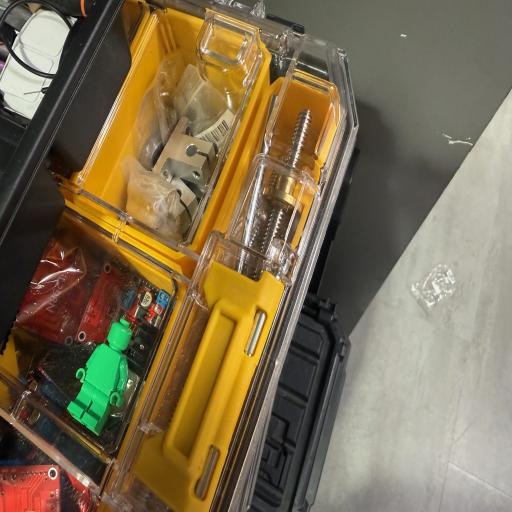Lego-Dude: (67, 319, 131, 434)
